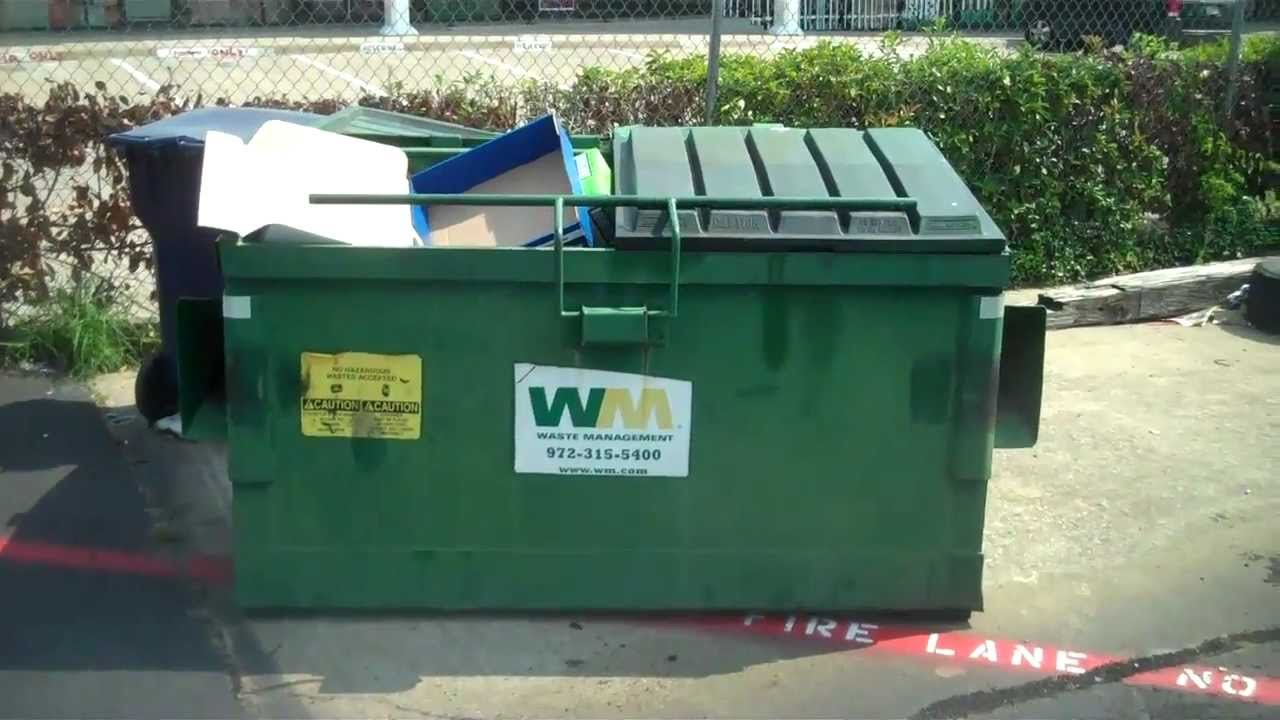Dumpster: (161, 106, 1060, 636)
